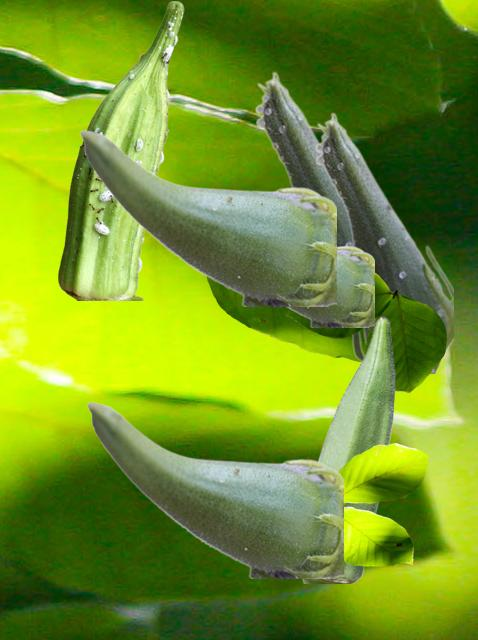okra: (86, 401, 342, 577), (79, 129, 335, 305), (58, 1, 183, 299), (314, 112, 452, 372), (301, 316, 394, 582), (254, 71, 350, 245), (283, 245, 373, 326)
